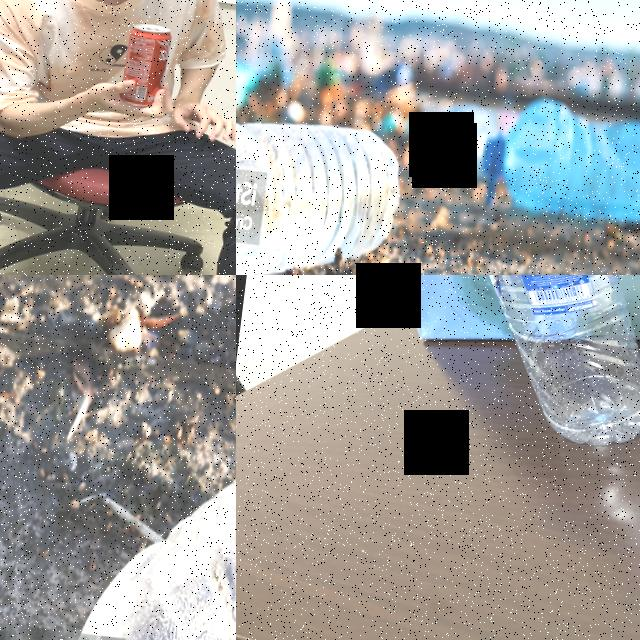bottle: (10, 382, 236, 640), (407, 275, 640, 455)
can: (116, 20, 174, 110)
